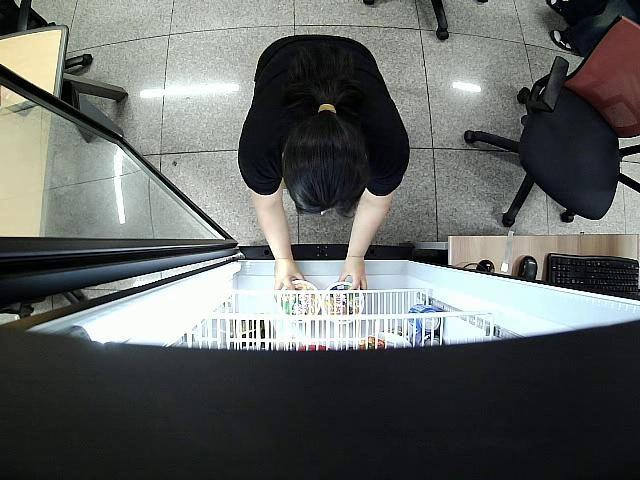09_yukGaeJang: (276, 280, 322, 324), (324, 282, 366, 326)
